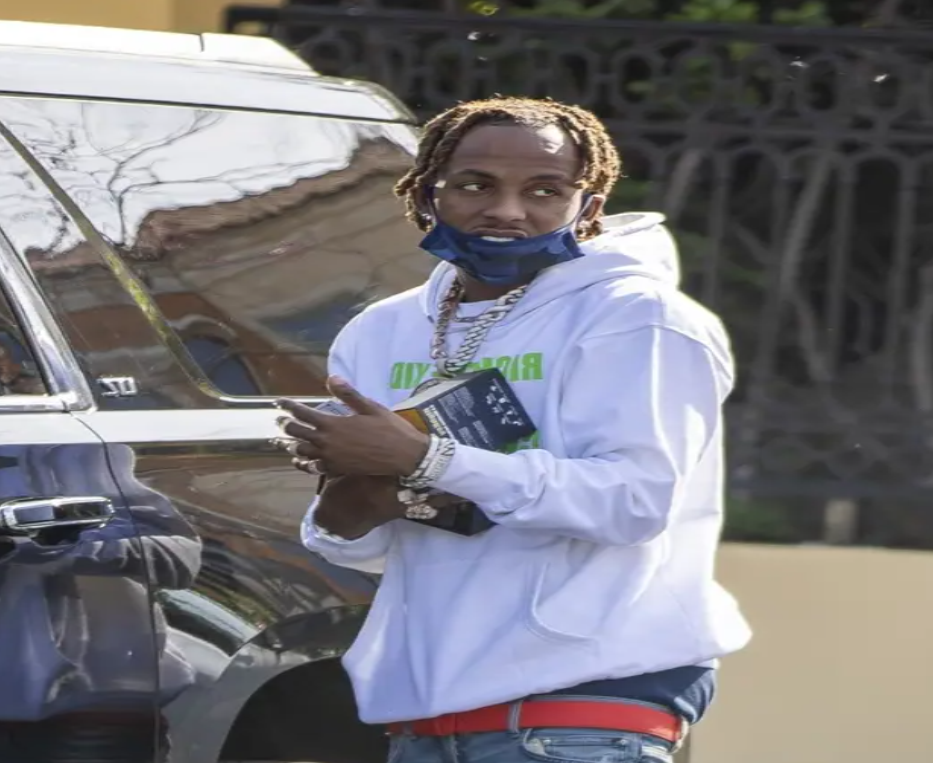mask_weared_incorrect: (397, 97, 619, 288)
